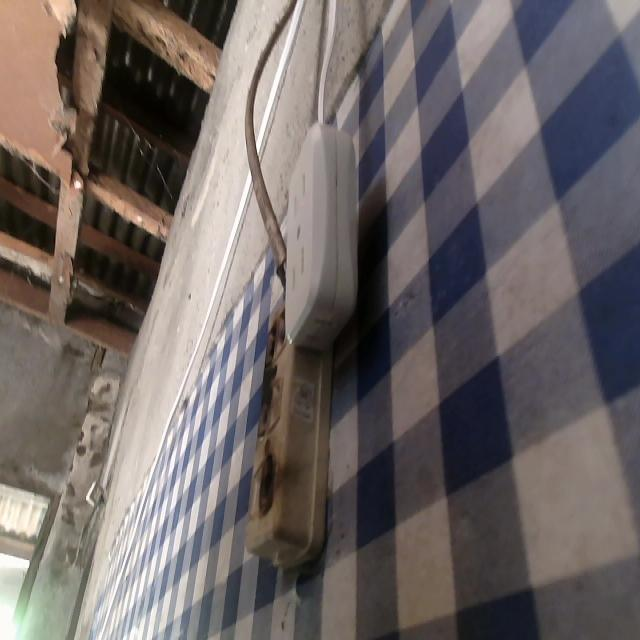-: (261, 301, 300, 363), (256, 450, 280, 518)
